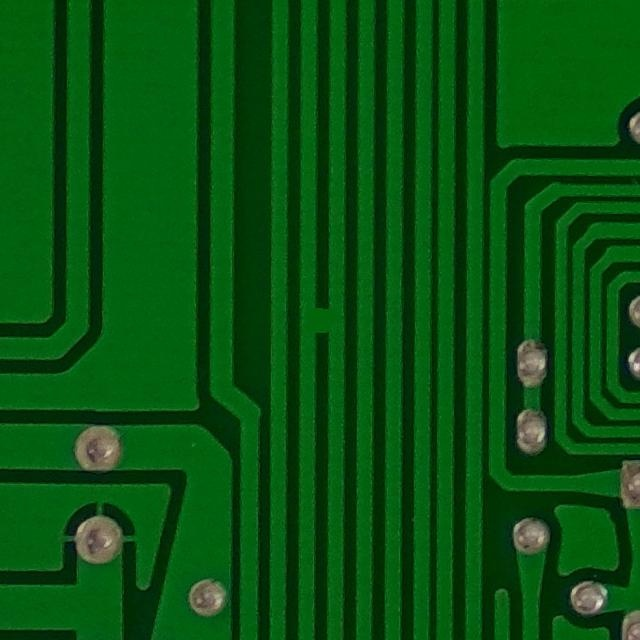short: (291, 291, 348, 349)
